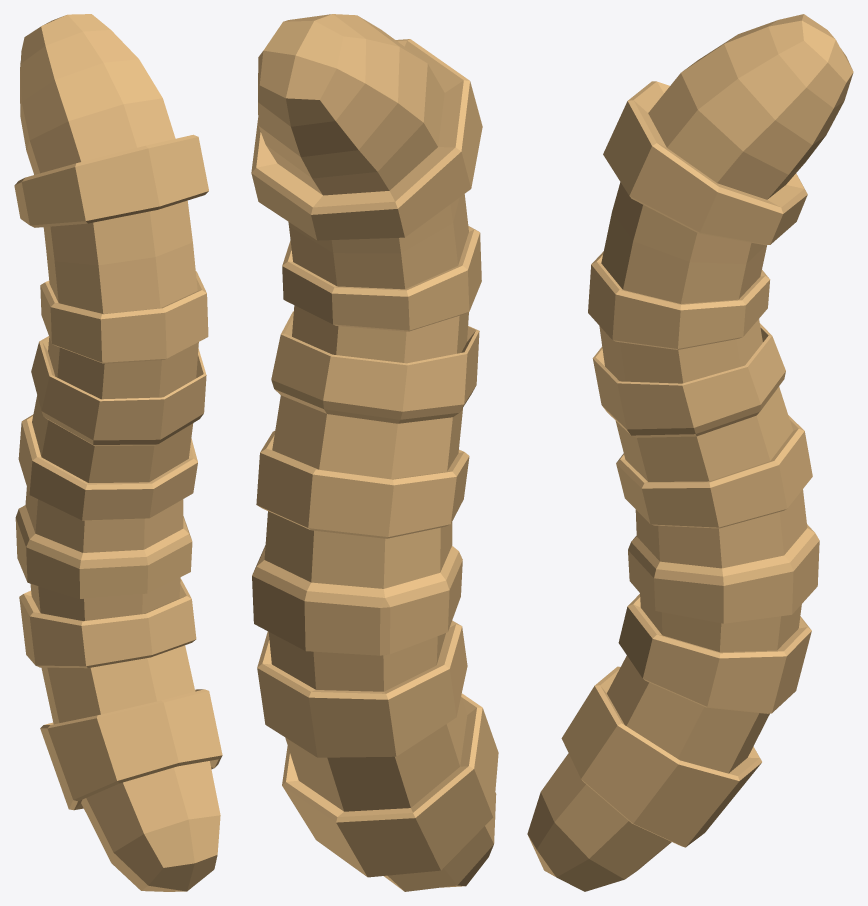
Rendered from worm.fbx.
3 renders of one model, left to right at view 1: azimuth 30°, elevation 25°; view 2: azimuth 150°, elevation 25°; view 3: azimuth 270°, elevation 25°, orthographic. The views are drawn at different scales.
Visible parts, largest first — view 1: Cube; view 2: Cube; view 3: Cube.
Boxes of the visible parts, x1,y1,x2,y2 form: Cube: (14, 14, 222, 891); Cube: (251, 14, 498, 891); Cube: (527, 14, 853, 891).
Bounding box in the file's own units: 59.89 × 271 × 92.63.
